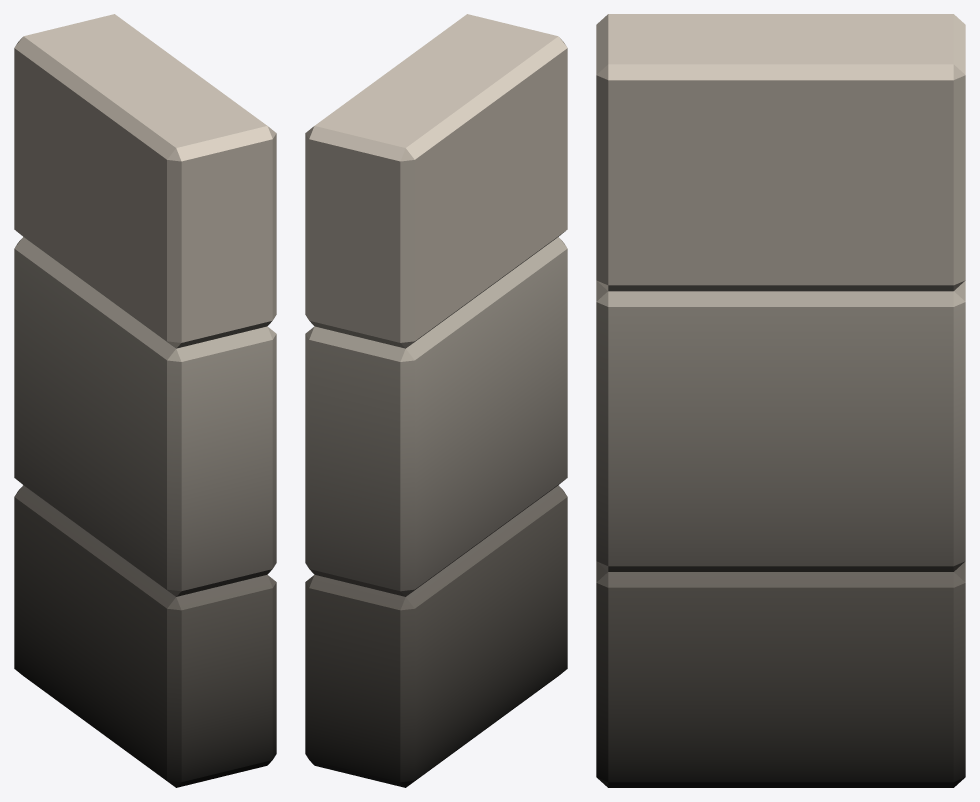
Rendered from SM_VKI_Post_Stone_Mid_Cut.fbx.
3 views of the same model, side by side, from view 1: azimuth 30°, elevation 25°; view 2: azimuth 150°, elevation 25°; view 3: azimuth 270°, elevation 25° (orthographic). The views are drawn at different scales.
Parts seen in each view (by area): view 1: SM_VKI_Post_Stone_Mid_Cut.001; view 2: SM_VKI_Post_Stone_Mid_Cut.001; view 3: SM_VKI_Post_Stone_Mid_Cut.001.
Part boxes in pixels (x1,y1,x2,y2): SM_VKI_Post_Stone_Mid_Cut.001: (14,14,276,787); SM_VKI_Post_Stone_Mid_Cut.001: (305,14,567,787); SM_VKI_Post_Stone_Mid_Cut.001: (596,14,965,787).
Size of the model in its own units: 0.24 by 1.34 by 0.62.
